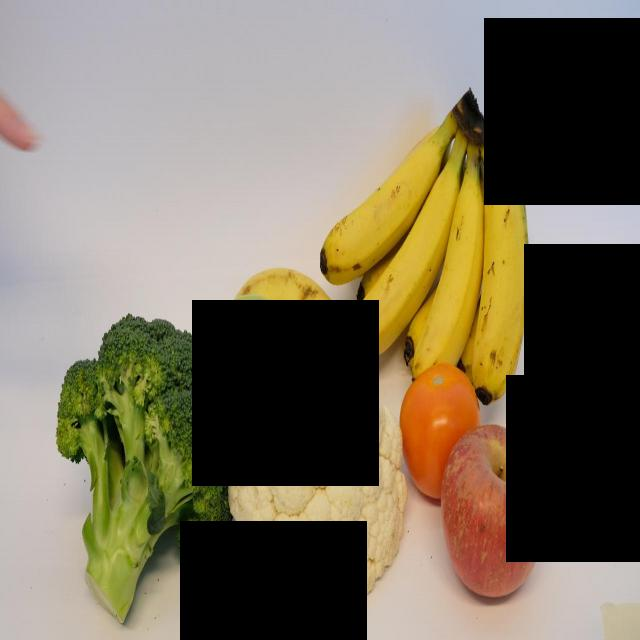apple: (437, 419, 548, 603), (207, 290, 295, 425)
banana: (348, 123, 469, 362), (317, 105, 462, 291), (410, 133, 484, 390), (472, 133, 532, 413)
broccoli: (52, 306, 234, 628)
cauliflower: (228, 348, 410, 624)
tomato: (400, 362, 486, 513)
